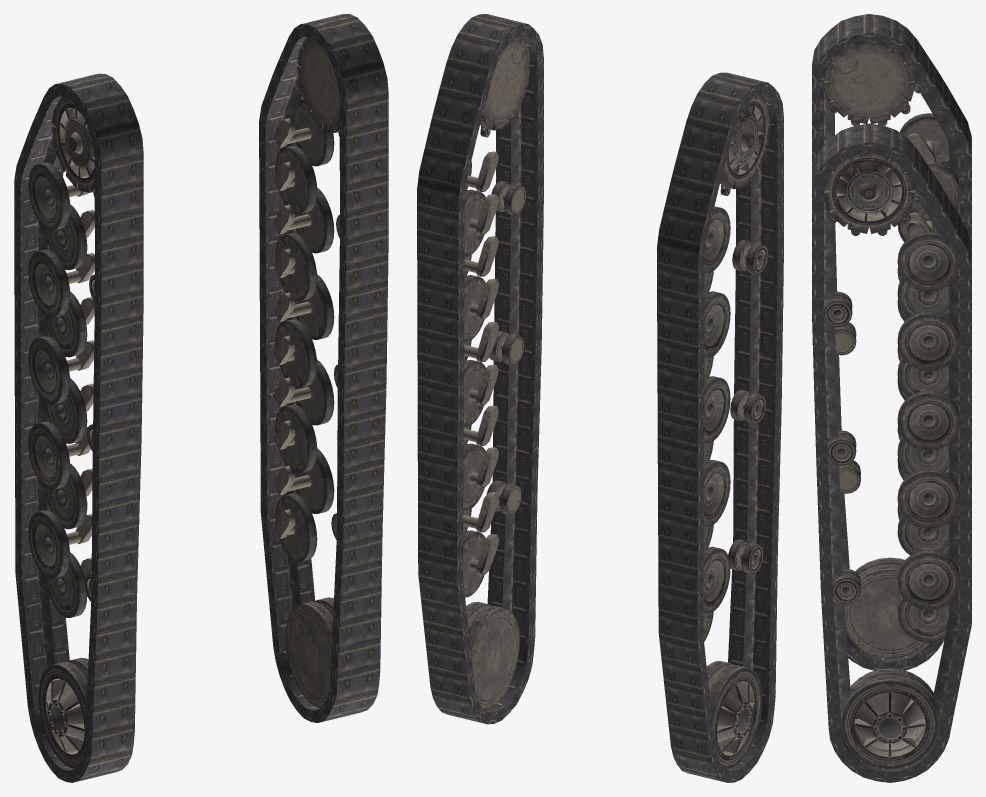
Rendered from Chassis.glb.
3 views of the same model, side by side, from view 1: azimuth 30°, elevation 25°; view 2: azimuth 150°, elevation 25°; view 3: azimuth 270°, elevation 25° (orthographic). The views are drawn at different scales.
Parts seen in each view (by area): view 1: set_1_group_0, set_0_group_0, set_3_group_0, set_5_group_0, set_4_group_0; view 2: set_1_group_0, set_0_group_0, set_5_group_0, set_3_group_0, set_4_group_0; view 3: set_5_group_0, set_0_group_0, set_3_group_0, set_1_group_0, set_2_group_0.
Part boxes in pixels (bbox=[...]): set_1_group_0: bbox=[14, 73, 143, 782]; set_0_group_0: bbox=[259, 14, 388, 722]; set_3_group_0: bbox=[28, 96, 115, 768]; set_5_group_0: bbox=[274, 37, 360, 707]; set_4_group_0: bbox=[274, 121, 311, 234]; set_1_group_0: bbox=[657, 72, 783, 782]; set_0_group_0: bbox=[417, 14, 543, 724]; set_5_group_0: bbox=[463, 36, 529, 709]; set_3_group_0: bbox=[703, 95, 770, 769]; set_4_group_0: bbox=[464, 158, 497, 276]; set_5_group_0: bbox=[823, 148, 959, 769]; set_0_group_0: bbox=[812, 123, 971, 782]; set_3_group_0: bbox=[824, 38, 959, 658]; set_1_group_0: bbox=[812, 14, 971, 670]; set_2_group_0: bbox=[913, 136, 935, 231].
Bounding box in the file's own units: 3.05 × 6.86 × 1.55.
6 materials, 6 textured.
